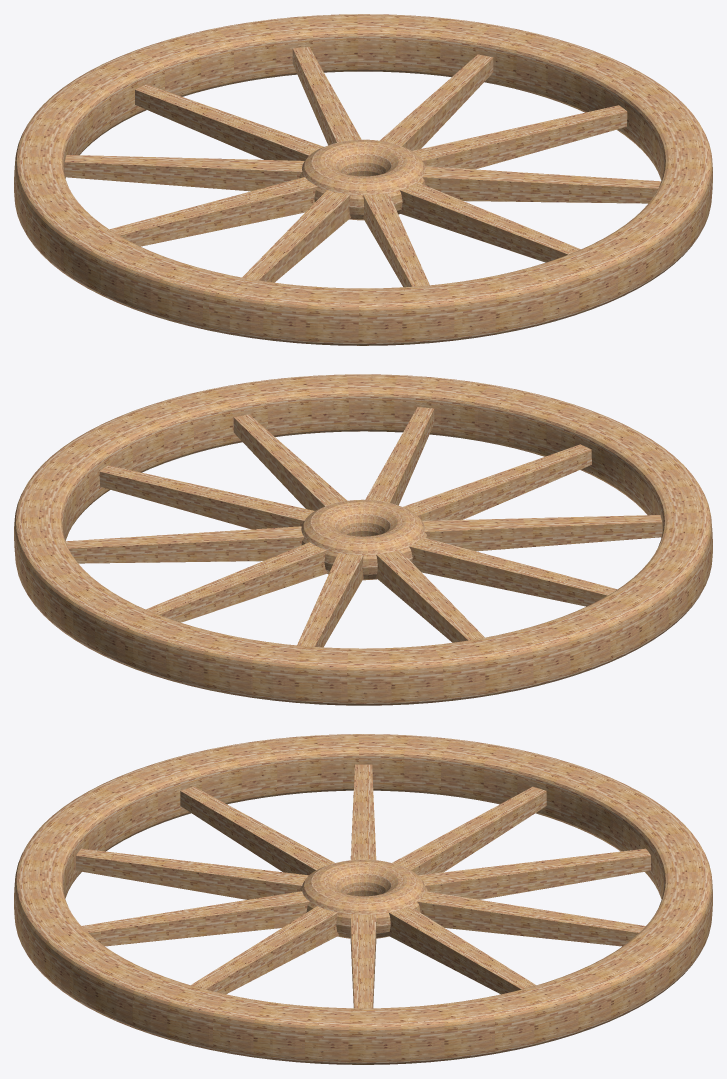
File: new-wheel.obj
3 views of the same model, one above another, from view 1: azimuth 30°, elevation 25°; view 2: azimuth 150°, elevation 25°; view 3: azimuth 270°, elevation 25° (orthographic).
Parts seen in each view (by area): view 1: Cube.001; view 2: Cube.001; view 3: Cube.001.
Boxes of the visible parts, x1=… form: Cube.001: x1=14, y1=14, x2=712, y2=345; Cube.001: x1=14, y1=374, x2=712, y2=705; Cube.001: x1=14, y1=734, x2=712, y2=1064.
Bounding box in the file's own units: 8.53 × 0.5659 × 8.53.
1 material, 1 textured.
